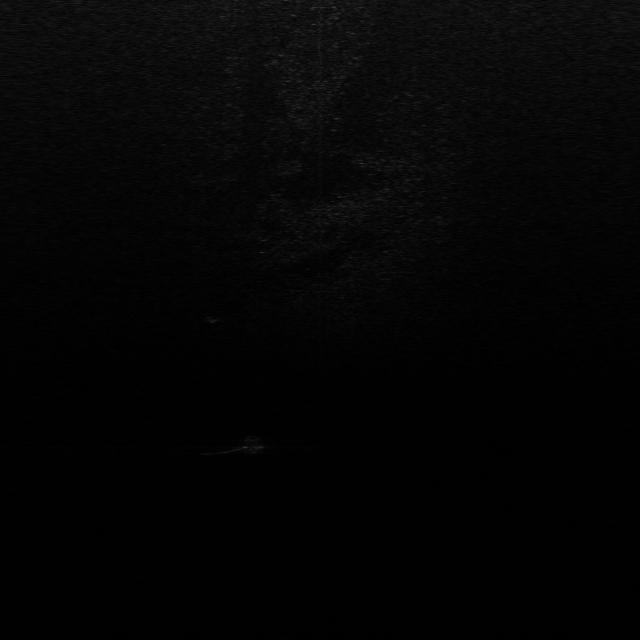ball: (237, 435, 268, 456)
circle cage: (204, 306, 224, 324)
